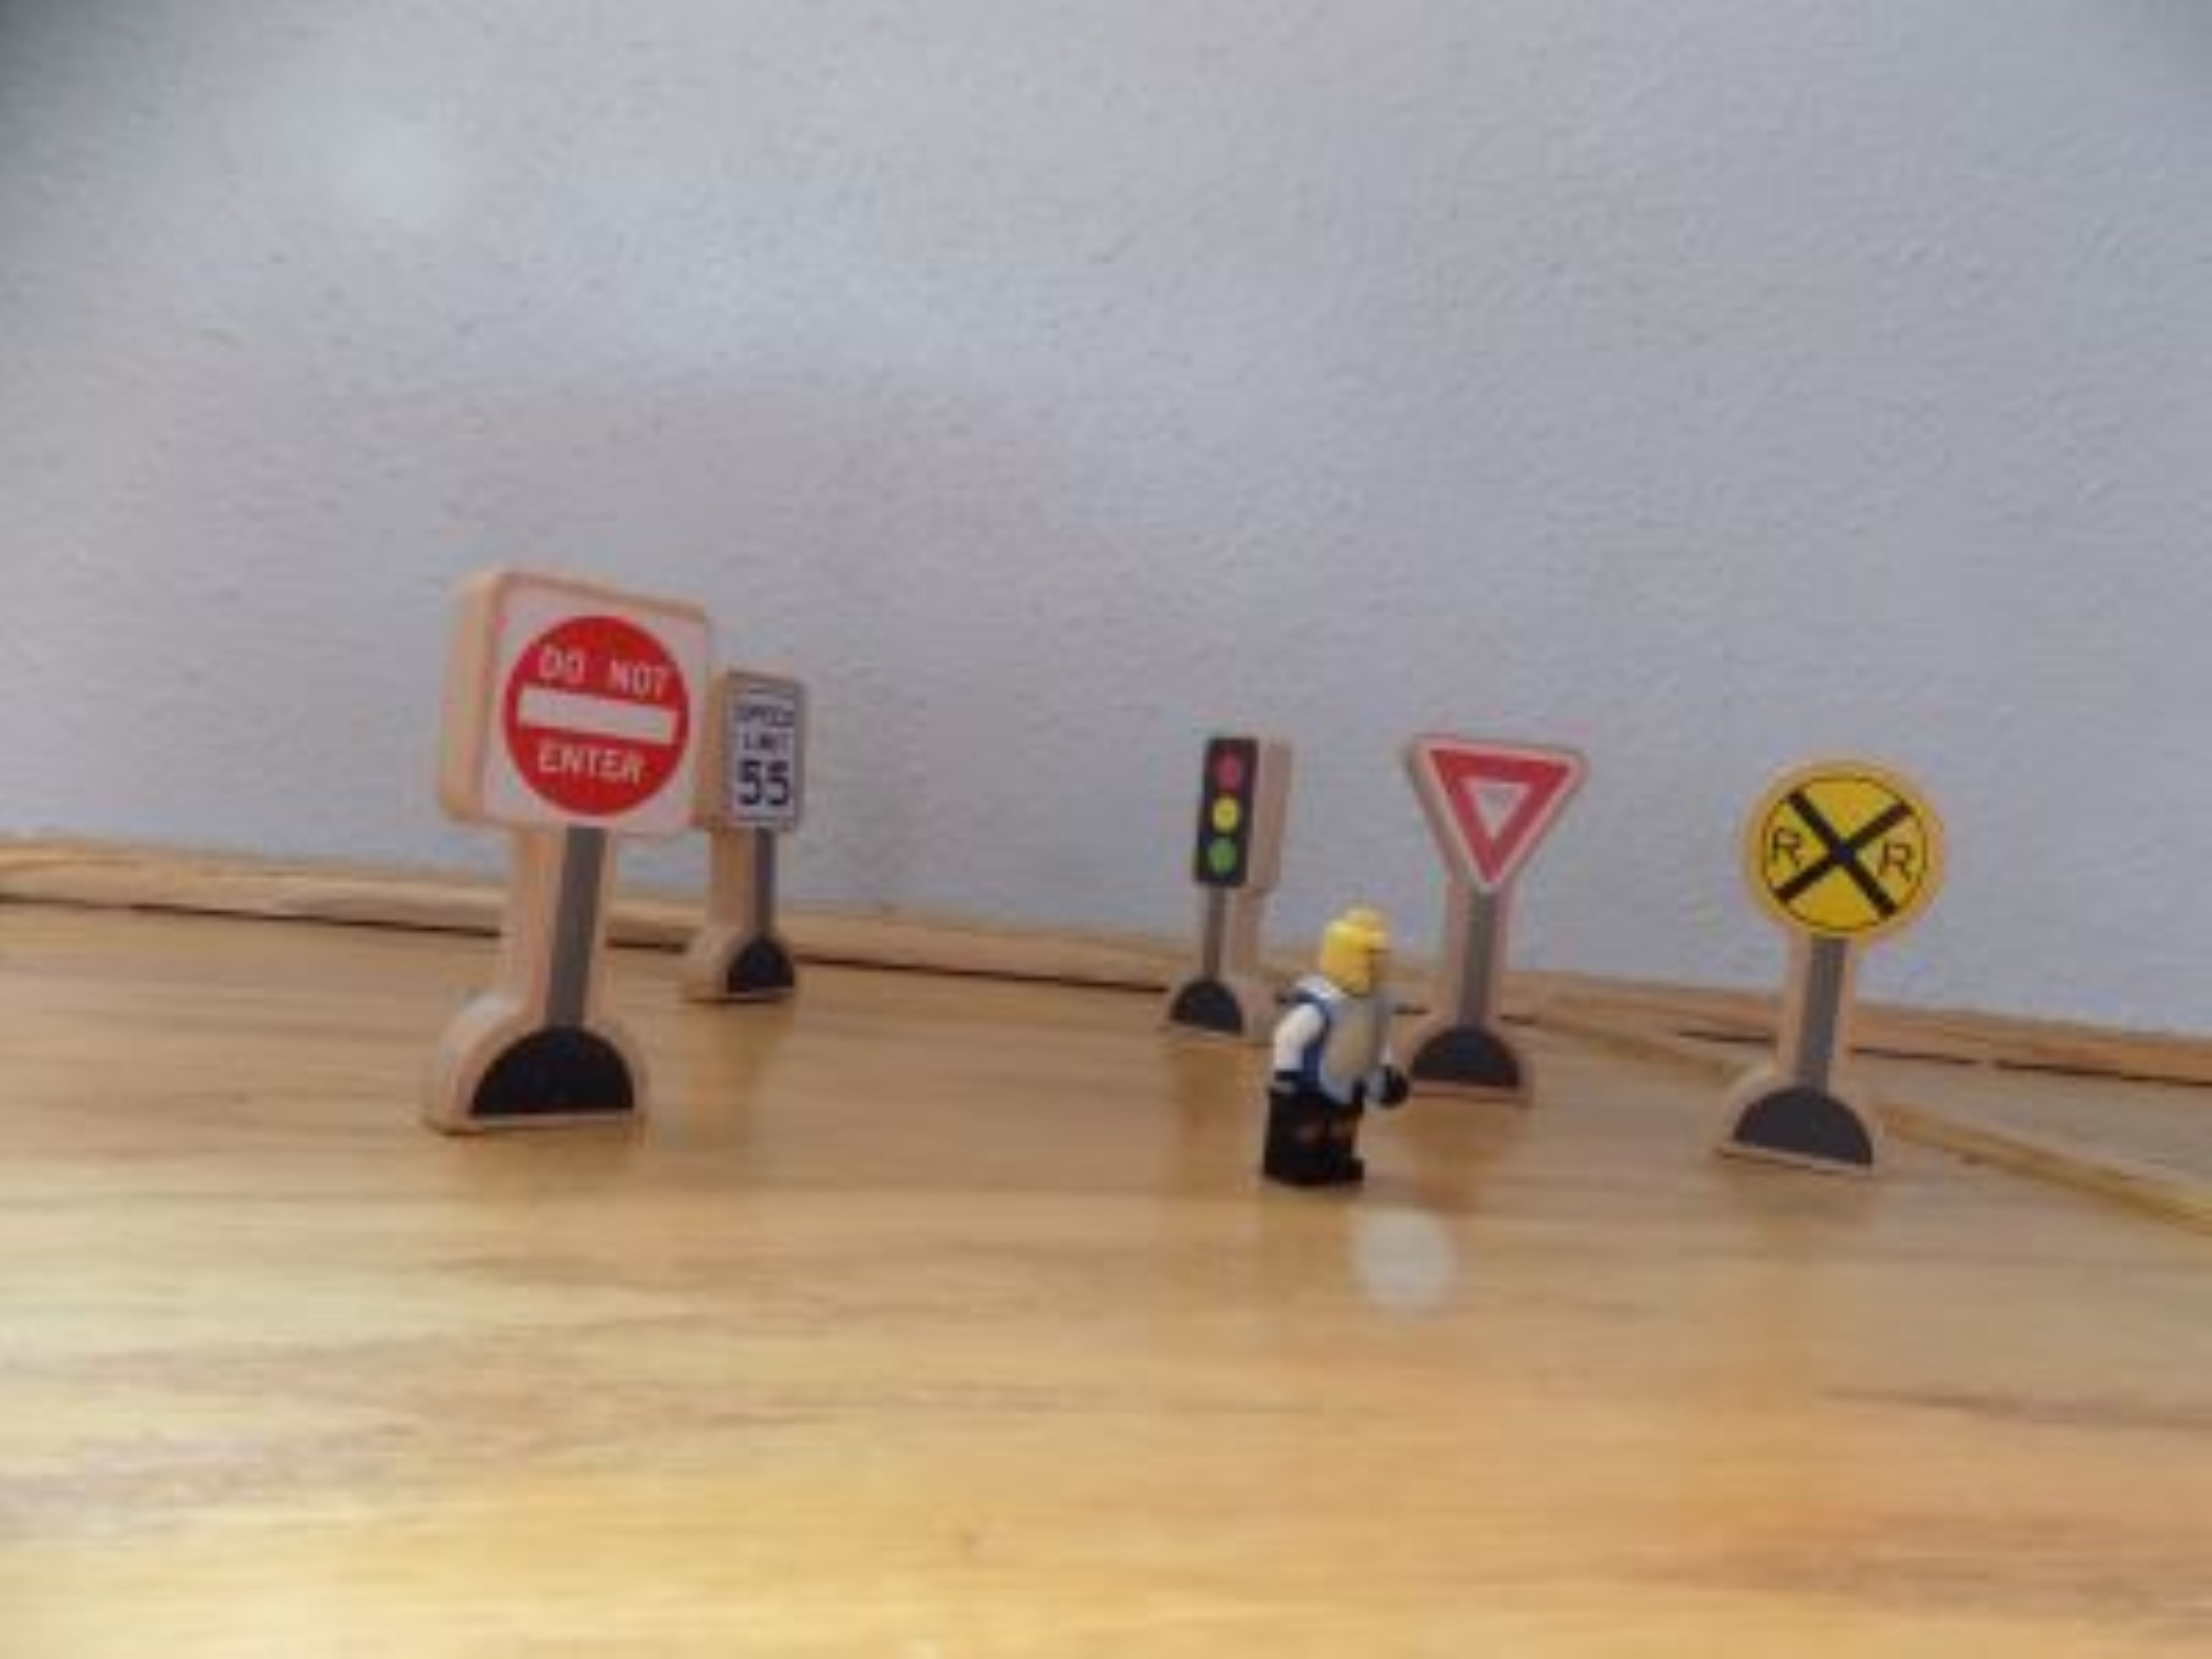Do Not Enter: (449, 573, 709, 859)
Red Traffic Light: (1256, 920, 1409, 1201), (1395, 725, 1609, 924), (1747, 756, 1947, 962), (1197, 725, 1294, 913)
Speed Limit 55: (718, 660, 812, 849)
